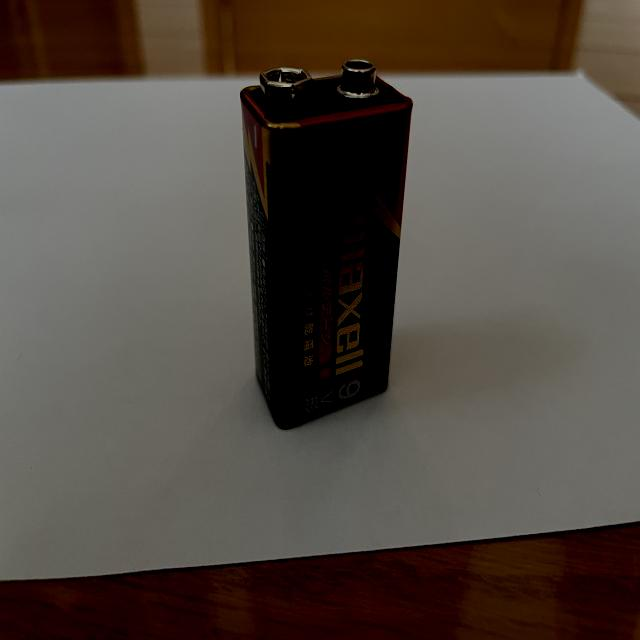9V: (241, 57, 413, 429)
